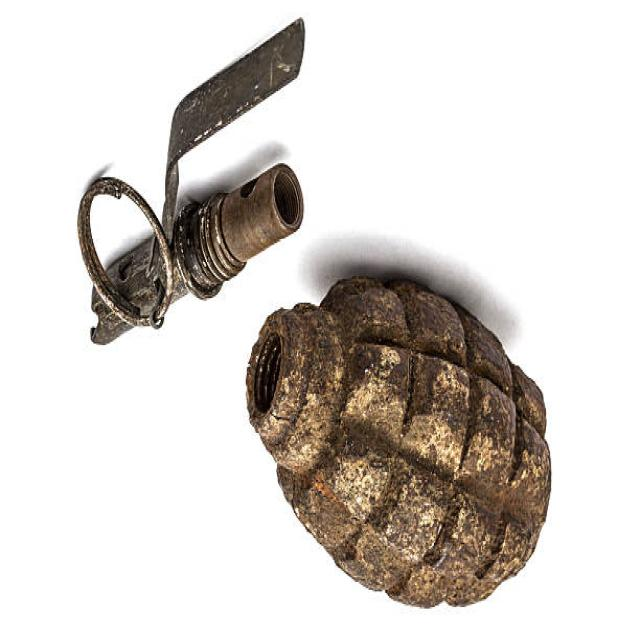grenade: (240, 260, 560, 618)
